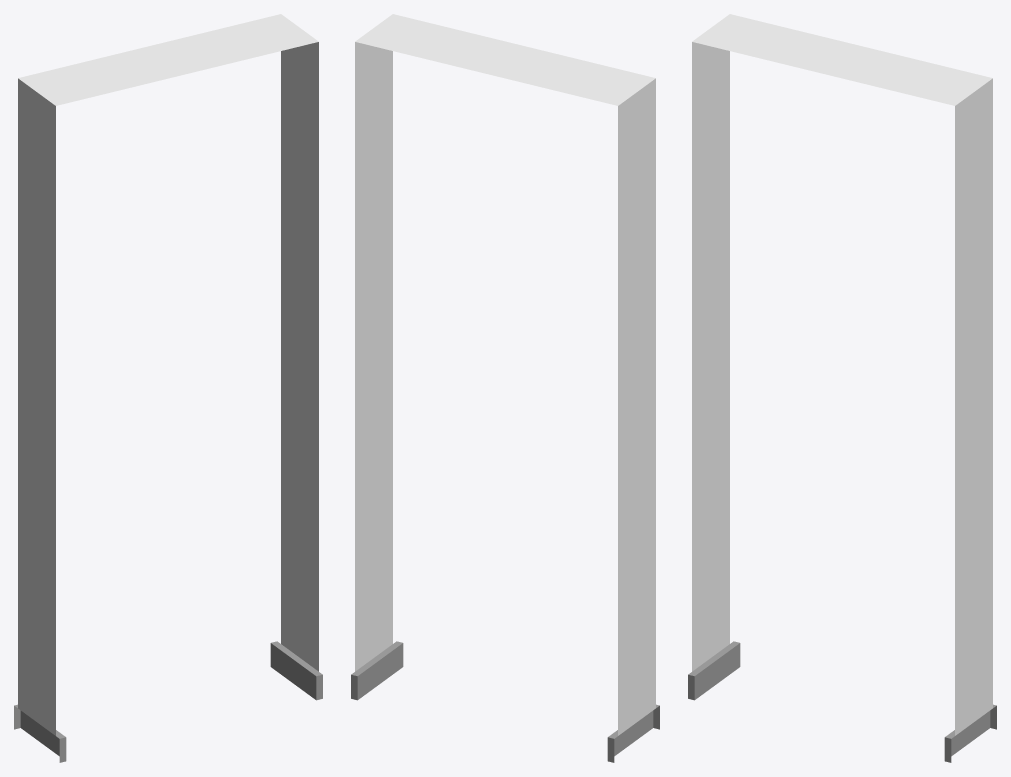
The model's file is EndPcsDoorframeV2White.fbx.
The picture shows the model from 3 angles, left to right: view 1: azimuth 30°, elevation 25°; view 2: azimuth 150°, elevation 25°; view 3: azimuth 330°, elevation 25°; orthographic projection.
Parts seen in each view (by area): view 1: EndPcsDoorframeV2White; view 2: EndPcsDoorframeV2White; view 3: EndPcsDoorframeV2White.
Boxes of the visible parts, x1,y1,x2,y2 form: EndPcsDoorframeV2White: (14, 14, 322, 762); EndPcsDoorframeV2White: (351, 14, 659, 762); EndPcsDoorframeV2White: (688, 14, 996, 762).
Size of the model in its own units: 80 by 190 by 24.
